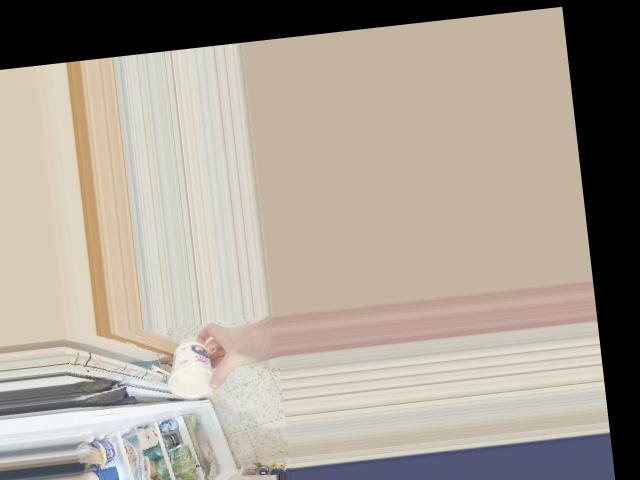cotage: (165, 340, 219, 404)
